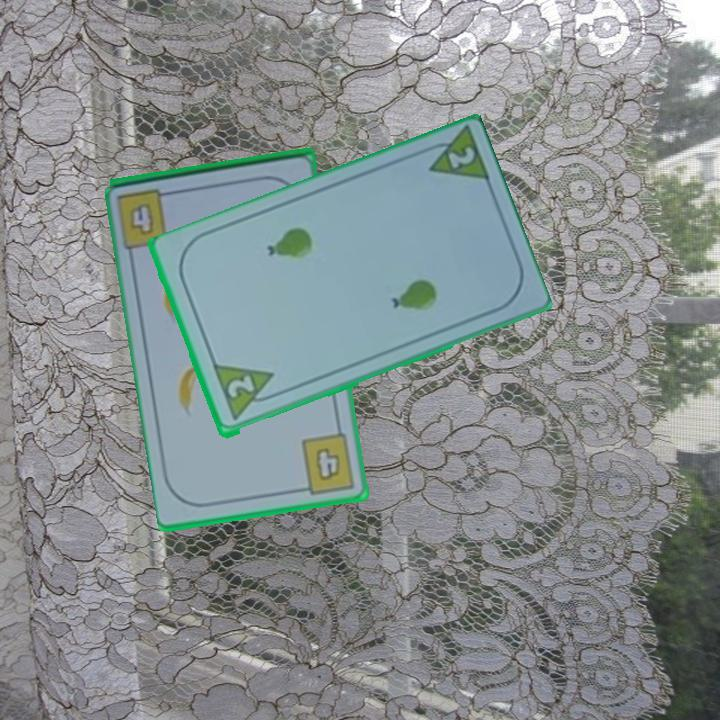2p: (415, 126, 493, 188), (209, 362, 283, 424)
4b: (295, 430, 359, 497), (130, 203, 155, 235)
